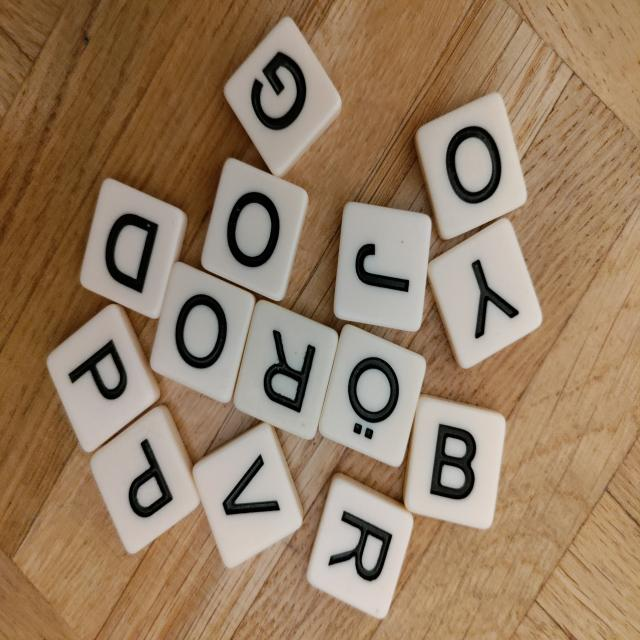b: (402, 393, 507, 530)
d: (78, 176, 188, 319)
g: (221, 14, 346, 182)
j: (332, 200, 433, 332)
o: (412, 89, 531, 242), (197, 155, 309, 305), (148, 260, 256, 407)
o_dot: (315, 324, 428, 468)
p: (86, 400, 205, 557), (44, 302, 163, 455)
r: (303, 470, 419, 623), (232, 297, 340, 445)
v: (190, 418, 308, 575)
y: (425, 215, 546, 375)
